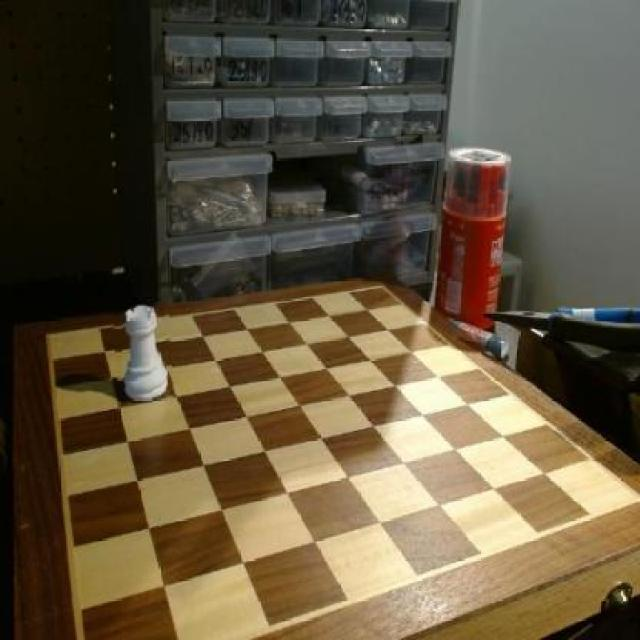white-queen: (115, 303, 174, 405)
